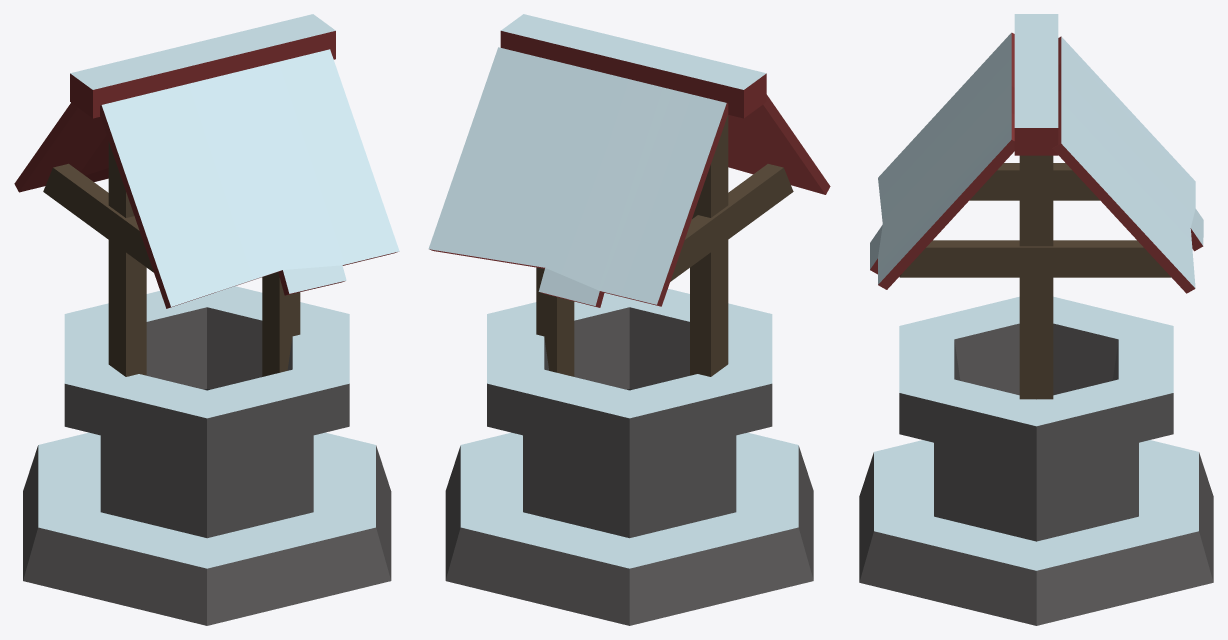
The model's file is SM_Prop_Adventure_Well_01_Snow.fbx.
3 renders of one model, left to right at view 1: azimuth 30°, elevation 25°; view 2: azimuth 150°, elevation 25°; view 3: azimuth 270°, elevation 25°, orthographic. The views are drawn at different scales.
Parts seen in each view (by area): view 1: SM_Prop_Adventure_Well_01_Snow; view 2: SM_Prop_Adventure_Well_01_Snow; view 3: SM_Prop_Adventure_Well_01_Snow.
Boxes of the visible parts, x1,y1,x2,y2 form: SM_Prop_Adventure_Well_01_Snow: (14,14,399,625); SM_Prop_Adventure_Well_01_Snow: (428,14,830,625); SM_Prop_Adventure_Well_01_Snow: (859,14,1213,625).
Bounding box in the file's own units: 44.82 × 56.43 × 38.82.
1 material, 1 textured.
